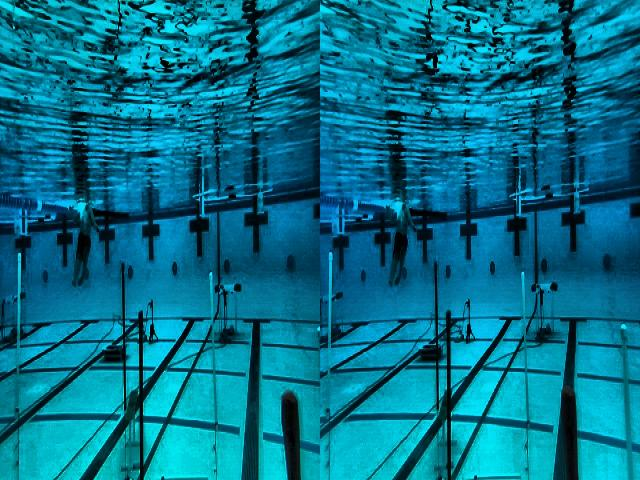octagon_table: (216, 279, 246, 343), (530, 279, 558, 343), (0, 292, 26, 345), (320, 291, 343, 344)
octagon_top: (191, 177, 277, 219), (508, 178, 592, 220), (0, 214, 56, 236), (320, 214, 374, 236)
path_marker: (436, 381, 454, 469), (123, 385, 138, 473)
